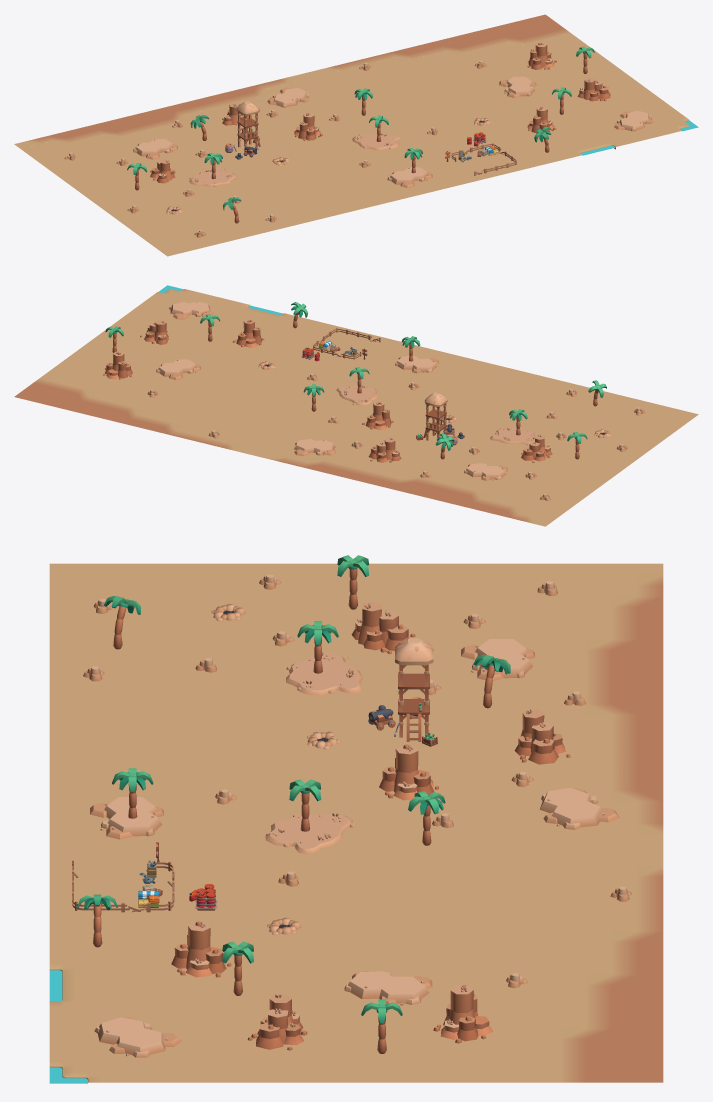
The model's file is Desert-transformed.glb.
3 renders of one model, top to bottom at view 1: azimuth 30°, elevation 25°; view 2: azimuth 150°, elevation 25°; view 3: azimuth 270°, elevation 25°, orthographic. The views are drawn at different scales.
Parts seen in each view (by area): view 1: square_rock2, tower, patch-sand-foliage4, patch-sand-foliage, rock-flat4, rock-flat6, rock-flat5, rock-flat7, rock-flat, rocks-sand-a5, rocks-sand-b5, rocks-sand-b (+2 smaller); view 2: square_rock2, tower, patch-sand-foliage4, rock-flat6, rock-flat5, rock-flat7, patch-sand-foliage, rock-flat4, rocks-sand-a, rock-flat, rocks-sand-b5, rocks-sand-a4 (+3 smaller); view 3: square_rock2, tower, patch-sand-foliage4, patch-sand-foliage, rock-flat5, rock-flat7, rock-flat6, rock-flat, rocks-sand-b4, rocks-sand-b5, rocks-sand-a4, rocks-sand-a5 (+9 smaller).
Boxes of the visible parts, x1=… form: square_rock2: x1=14, y1=14, x2=698, y2=256; tower: x1=225, y1=101, x2=260, y2=159; patch-sand-foliage4: x1=352, y1=133, x2=400, y2=150; patch-sand-foliage: x1=189, y1=167, x2=236, y2=186; rock-flat4: x1=133, y1=139, x2=177, y2=159; rock-flat6: x1=499, y1=76, x2=536, y2=97; rock-flat5: x1=267, y1=87, x2=309, y2=107; rock-flat7: x1=614, y1=110, x2=653, y2=131; rock-flat: x1=387, y1=167, x2=432, y2=187; rocks-sand-a5: x1=577, y1=78, x2=610, y2=101; rocks-sand-b5: x1=527, y1=42, x2=556, y2=69; rocks-sand-b: x1=294, y1=112, x2=322, y2=140; square_rock2: x1=14, y1=285, x2=698, y2=526; tower: x1=416, y1=392, x2=464, y2=445; patch-sand-foliage4: x1=336, y1=384, x2=379, y2=405; rock-flat6: x1=156, y1=359, x2=200, y2=379; rock-flat5: x1=294, y1=439, x2=335, y2=455; rock-flat7: x1=169, y1=301, x2=213, y2=319; patch-sand-foliage: x1=490, y1=427, x2=534, y2=445; rock-flat4: x1=464, y1=463, x2=507, y2=480; rocks-sand-a: x1=368, y1=437, x2=401, y2=462; rock-flat: x1=395, y1=355, x2=438, y2=373; rocks-sand-b5: x1=103, y1=351, x2=132, y2=379; rocks-sand-a4: x1=521, y1=435, x2=552, y2=462; square_rock2: x1=49, y1=563, x2=663, y2=1083; tower: x1=368, y1=638, x2=437, y2=746; patch-sand-foliage4: x1=265, y1=812, x2=355, y2=854; patch-sand-foliage: x1=286, y1=651, x2=362, y2=695; rock-flat5: x1=539, y1=787, x2=619, y2=829; rock-flat7: x1=94, y1=1017, x2=181, y2=1057; rock-flat6: x1=344, y1=970, x2=432, y2=1005; rock-flat: x1=90, y1=797, x2=163, y2=839; rocks-sand-b4: x1=171, y1=921, x2=231, y2=977; rocks-sand-b5: x1=433, y1=985, x2=493, y2=1043; rocks-sand-a4: x1=351, y1=602, x2=415, y2=653; rocks-sand-a5: x1=247, y1=994, x2=307, y2=1050.
Size of the model in its own units: 96 by 8.26 by 48.
10 materials, 7 textured.
